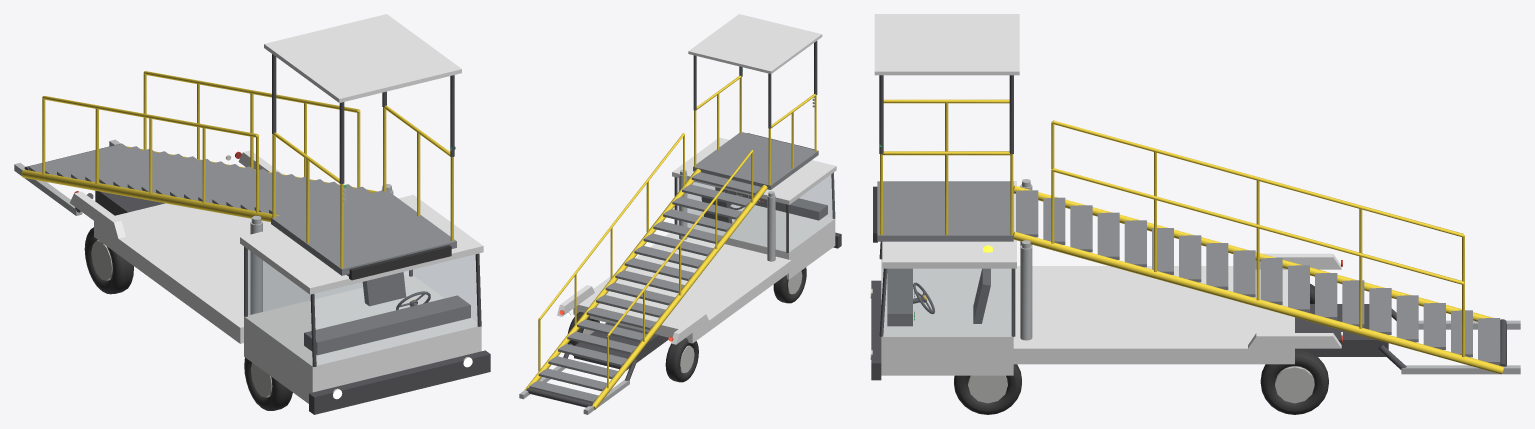
The model's file is PassengerStairs.glb.
The picture shows the model from 3 angles, left to right: view 1: azimuth 30°, elevation 25°; view 2: azimuth 150°, elevation 25°; view 3: azimuth 270°, elevation 25°; orthographic projection. The views are drawn at different scales.
Parts seen in each view (by area): view 1: Body, StairPlatform, StairFlight, Wheel_RR, Wheel_FR, PlatformExtension, Tread_00, Tread_12, Tread_08, Tread_10, Tread_11, Tread_16 (+12 smaller); view 2: Body, StairPlatform, StairFlight, Wheel_RR, Wheel_FR, Tread_16, Tread_13, Tread_14, Tread_15, Tread_01, Tread_05, Tread_02 (+11 smaller); view 3: Body, StairPlatform, StairFlight, Wheel_RL, Wheel_FL, Tread_03, Tread_00, Tread_06, Tread_02, Tread_08, Tread_14, Tread_04 (+11 smaller).
Part boxes in pixels (<box>): Body: <box>14,139,490,414</box>; StairPlatform: <box>251,14,461,275</box>; StairFlight: <box>21,71,377,221</box>; Wheel_RR: <box>84,227,133,294</box>; Wheel_FR: <box>244,357,292,410</box>; PlatformExtension: <box>346,245,451,280</box>; Tread_00: <box>269,186,370,215</box>; Tread_12: <box>99,156,198,185</box>; Tread_08: <box>156,166,255,195</box>; Tread_10: <box>127,161,226,190</box>; Tread_11: <box>113,159,212,188</box>; Tread_16: <box>45,146,141,175</box>; Body: <box>519,137,841,414</box>; StairPlatform: <box>680,14,822,196</box>; StairFlight: <box>524,133,767,409</box>; Wheel_RR: <box>665,338,698,382</box>; Wheel_FR: <box>773,267,806,303</box>; Tread_16: <box>538,368,606,391</box>; Tread_13: <box>567,331,636,354</box>; Tread_14: <box>558,344,627,366</box>; Tread_15: <box>548,356,617,378</box>; Tread_01: <box>682,184,751,207</box>; Tread_05: <box>643,233,713,256</box>; Tread_02: <box>672,196,741,219</box>; Body: <box>870,181,1520,380</box>; StairPlatform: <box>874,14,1030,248</box>; StairFlight: <box>1013,120,1506,374</box>; Wheel_RL: <box>1260,348,1328,414</box>; Wheel_FL: <box>954,364,1021,414</box>; Tread_03: <box>1097,212,1119,259</box>; Tread_00: <box>1016,190,1038,237</box>; Tread_06: <box>1179,235,1201,282</box>; Tread_02: <box>1070,205,1092,252</box>; Tread_08: <box>1233,250,1255,297</box>; Tread_14: <box>1396,295,1418,342</box>; Tread_04: <box>1124,220,1146,267</box>.
Size of what is drawn, in the model's own units: 2.3 by 4.34 by 7.63.
